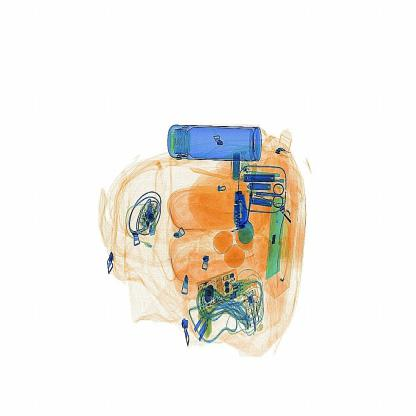scissors: (227, 187, 254, 239)
